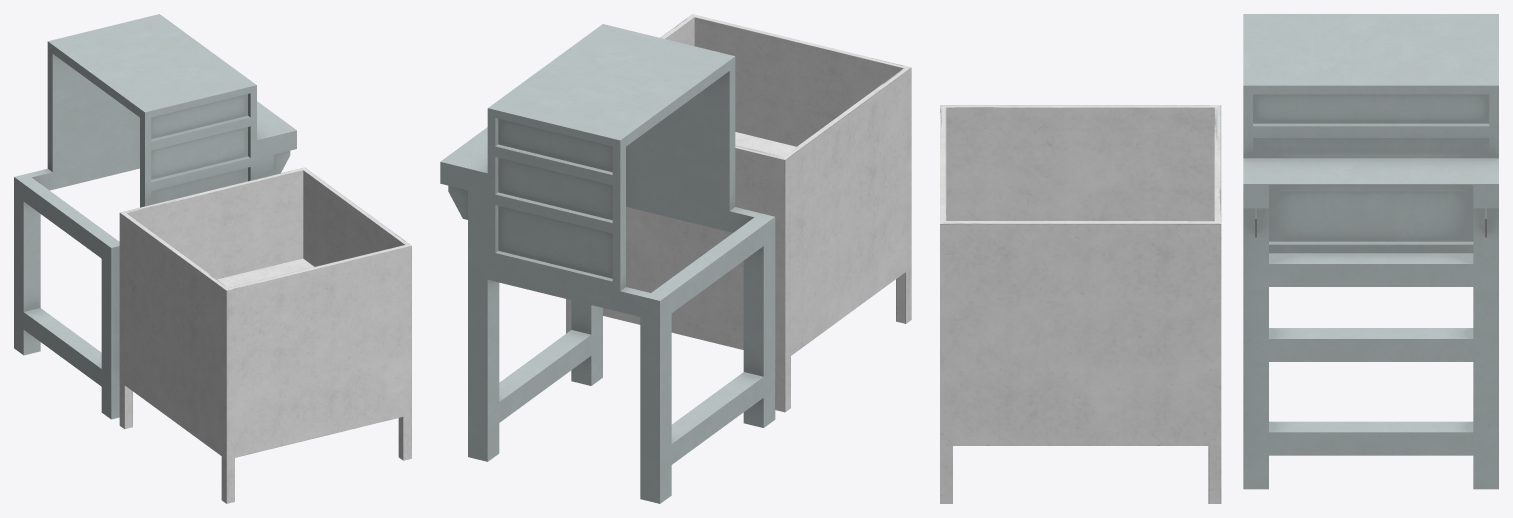
3 renders of one model, left to right at view 1: azimuth 30°, elevation 25°; view 2: azimuth 150°, elevation 25°; view 3: azimuth 270°, elevation 25°, orthographic. The views are drawn at different scales.
Visible parts, largest first — view 1: Model; view 2: Model; view 3: Model.
Part boxes in pixels (left/top/right/bottom): Model: left=14, top=14, right=411, bottom=503; Model: left=440, top=14, right=911, bottom=503; Model: left=940, top=14, right=1498, bottom=503.
Size of the model in its own units: 1.79 by 2.75 by 3.55.
1 material, 1 textured.
